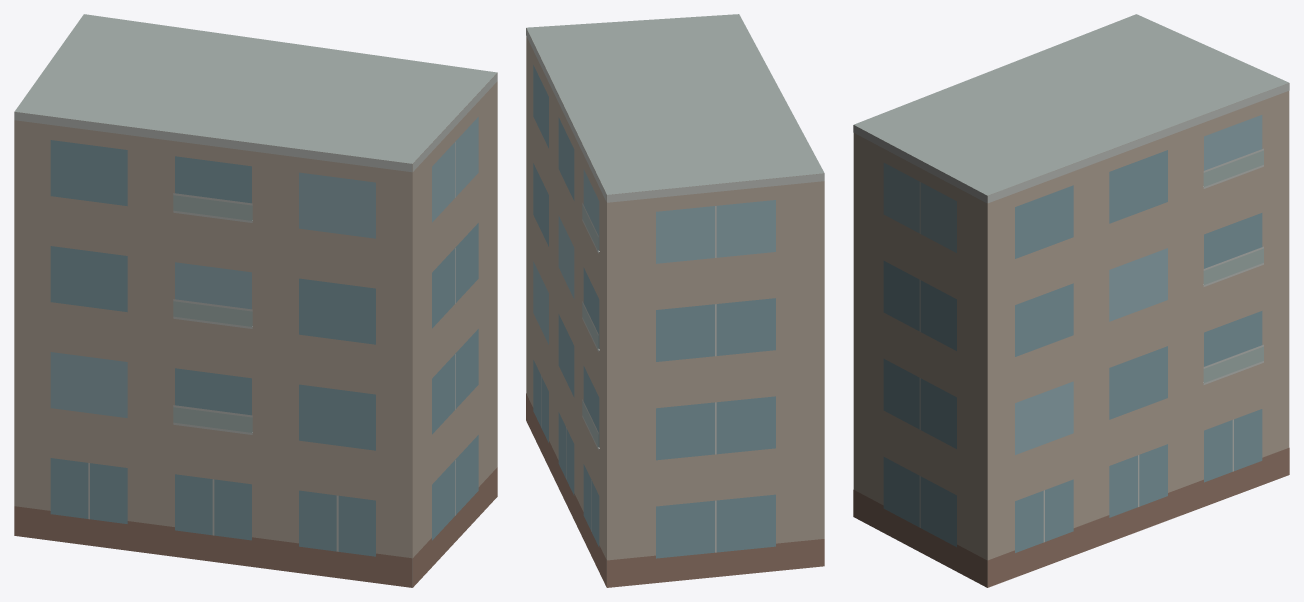
Rendered from survey-upis-32591874.glb.
The picture shows the model from 3 angles, left to right: view 1: azimuth 30°, elevation 25°; view 2: azimuth 150°, elevation 25°; view 3: azimuth 270°, elevation 25°; orthographic projection. The views are drawn at different scales.
Parts seen in each view (by area): view 1: survey-upis-32591874.tmp; view 2: survey-upis-32591874.tmp; view 3: survey-upis-32591874.tmp.
Part boxes in pixels (<box>): survey-upis-32591874.tmp: <box>14,14,497,587</box>; survey-upis-32591874.tmp: <box>526,14,824,587</box>; survey-upis-32591874.tmp: <box>853,14,1289,587</box>.
Size of the model in its own units: 12.13 by 12.2 by 12.3.
